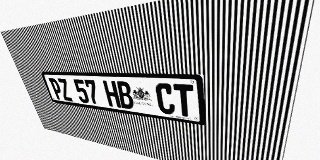5: (73, 79, 90, 104)
7: (83, 80, 101, 105)
B: (115, 81, 135, 110)
C: (155, 83, 176, 115)
H: (102, 80, 121, 108)
P: (48, 78, 64, 100)
T: (173, 84, 195, 118)
Z: (57, 78, 73, 101)
